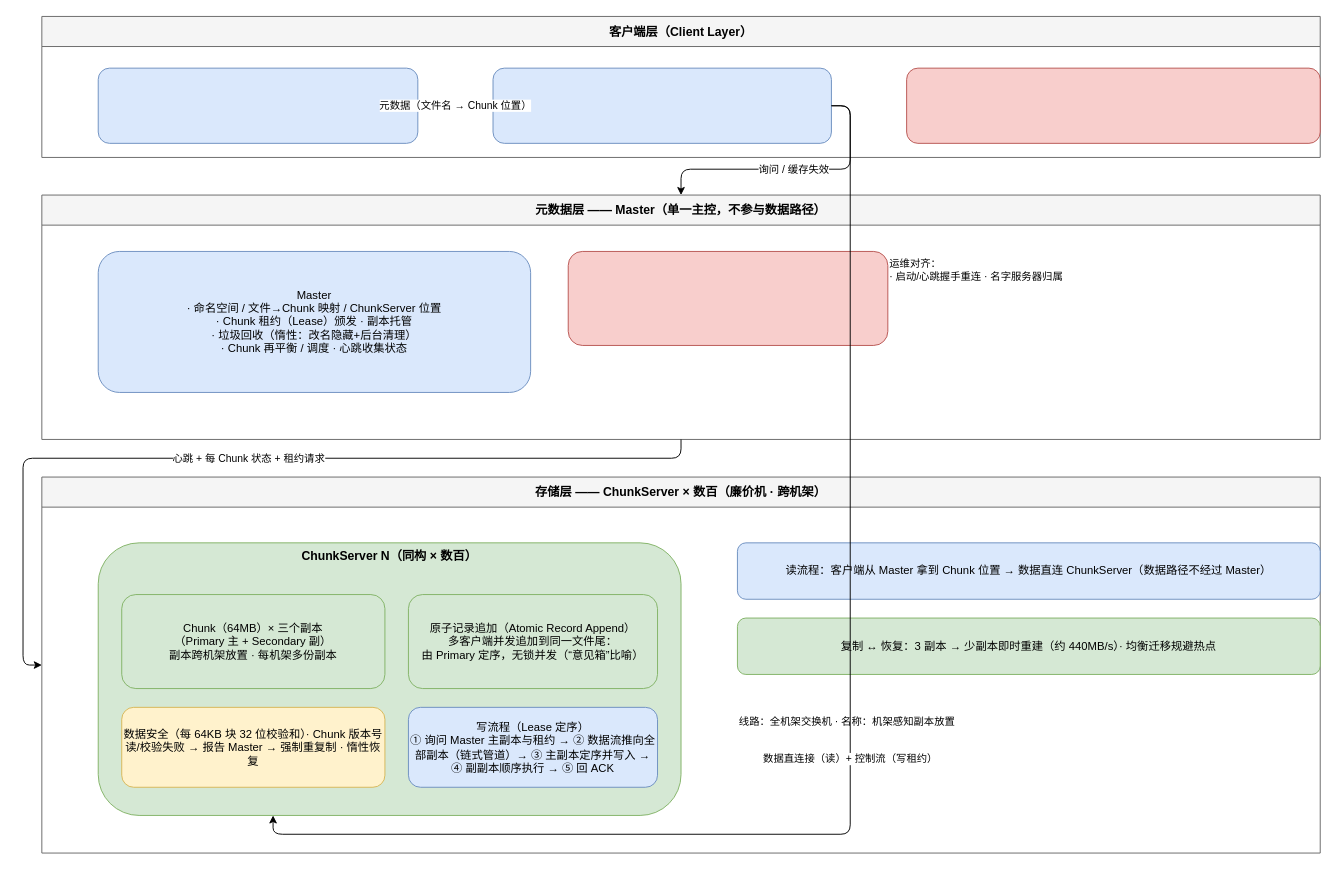
The diagram is 1337 pixels wide and 870 high, and some of its shapes have lost their labels. Each missing label, with the centre of its shape:
GFS 客户端库 （文件名 → Chunk 句柄/位置寻址 · 缓存元数据）: the point at 661,105
应用（MapReduce / 大规模数据密集任务） —— 大文件 · 追加为主（追加:覆盖 ≈ 108:1）: the point at 257,105
影子 Master（Shadow） 只读镜像，提供故障期间读高可用； 写元数据仍单点（局限：Master 挂则写不可用）: the point at 727,298
设计前提：廉价商用硬件 · 组件失效为常态 · 不迁移 POSIX: the point at 1113,105
